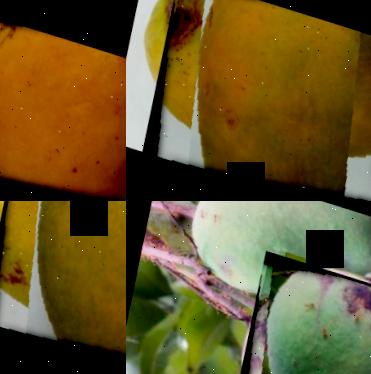PartiallyRipe: (138, 0, 371, 201), (0, 201, 126, 374)
Ripe: (0, 5, 126, 201)
Unripe: (227, 250, 371, 374)
